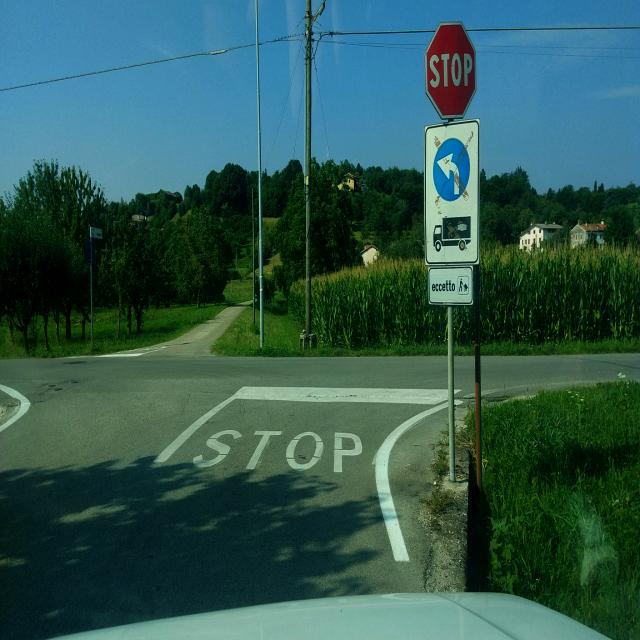car: (518, 222, 568, 251)
